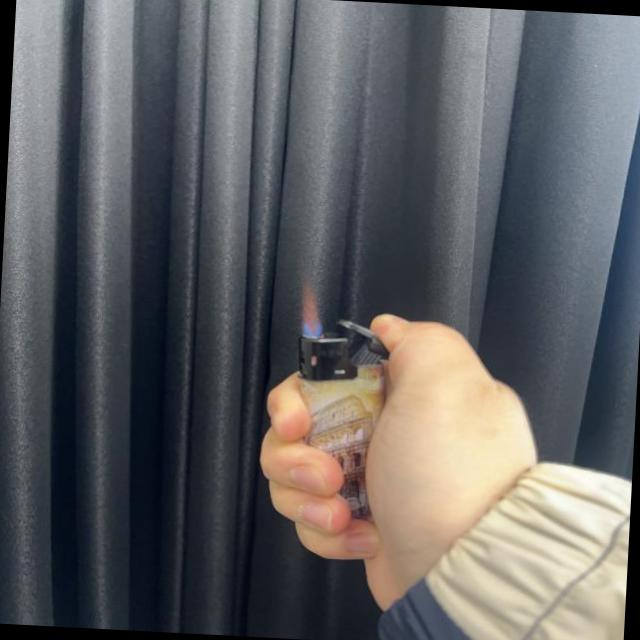Fire: (297, 279, 328, 341)
